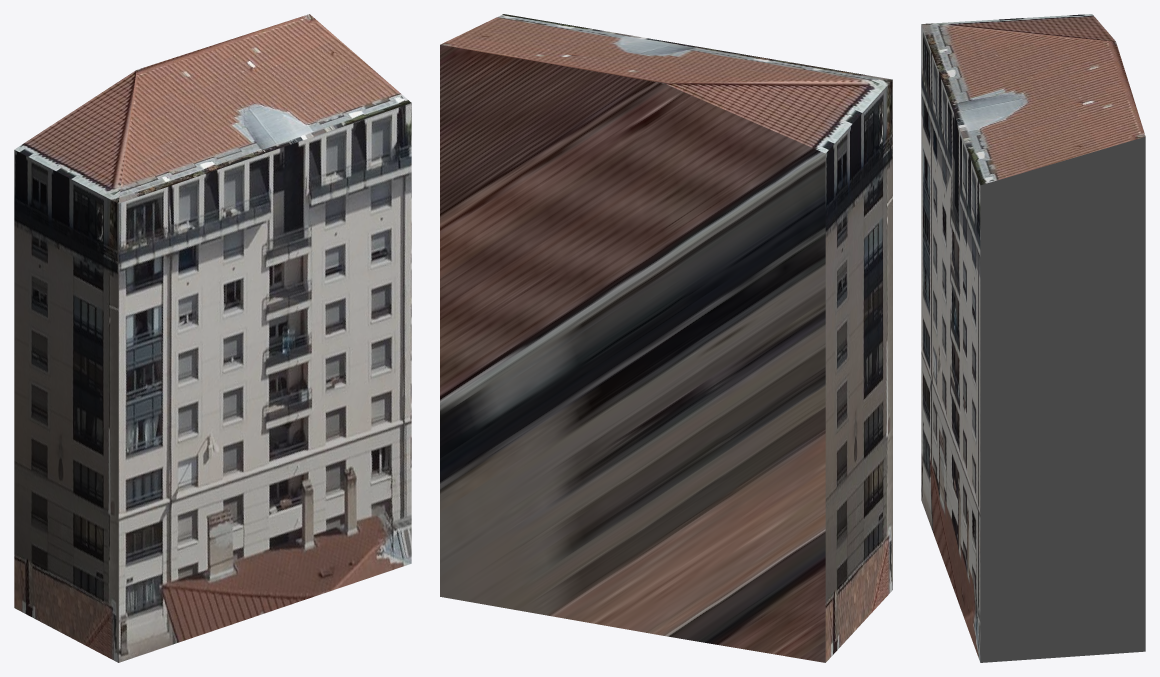
The picture shows the model from 3 angles, left to right: view 1: azimuth 30°, elevation 25°; view 2: azimuth 150°, elevation 25°; view 3: azimuth 270°, elevation 25°; orthographic projection. The views are drawn at different scales.
Visible parts, largest first — view 1: Z_UP; view 2: Z_UP; view 3: Z_UP.
Boxes of the visible parts, x1,y1,x2,y2 form: Z_UP: (14,14,411,662); Z_UP: (440,14,892,662); Z_UP: (921,14,1145,662).
Size of the model in its own units: 18.41 by 25.44 by 10.04.
2 materials, 1 textured.
